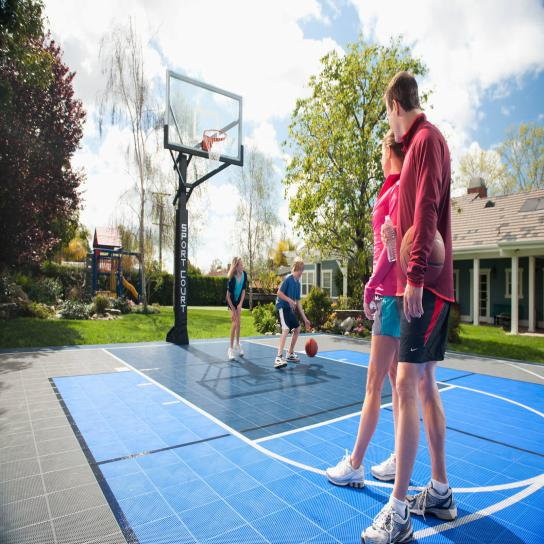basketball-hoop: (203, 128, 227, 170)
